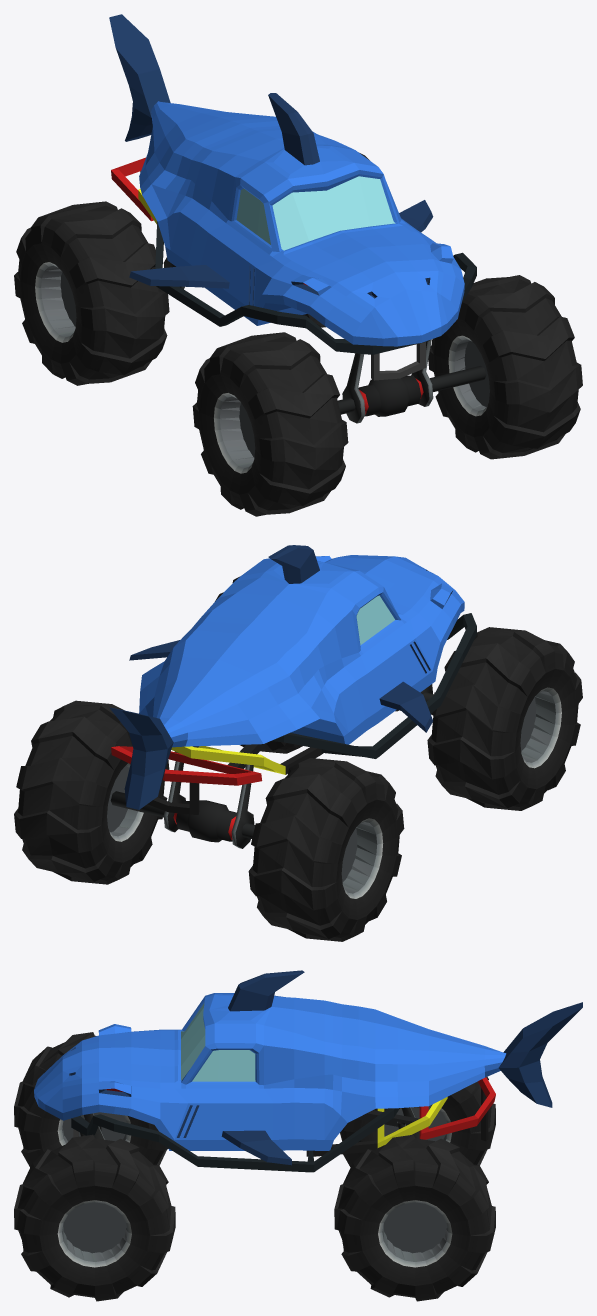
File: Shark.fbx
The picture shows the model from 3 angles, top to bottom: view 1: azimuth 30°, elevation 25°; view 2: azimuth 150°, elevation 25°; view 3: azimuth 270°, elevation 25°; orthographic projection. The views are drawn at different scales.
Visible parts, largest first — view 1: Monster_Truck_Body, Wheel_FR, Wheel_RR, Wheel_FL, Axel Front; view 2: Monster_Truck_Body, Wheel_RR, Wheel_FR, Wheel_RL, Axel Back; view 3: Monster_Truck_Body, Wheel_RL, Wheel_FL, Wheel_FR, Wheel_RR.
Part boxes in pixels (box(x1,y1,x2,y2)): Monster_Truck_Body: box(109, 14, 476, 380); Wheel_FR: box(192, 332, 348, 516); Wheel_RR: box(14, 201, 169, 385); Wheel_FL: box(428, 275, 582, 459); Axel Front: box(337, 339, 486, 423); Monster_Truck_Body: box(109, 545, 476, 814); Wheel_RR: box(248, 758, 404, 941); Wheel_FR: box(427, 627, 582, 810); Wheel_RL: box(14, 700, 169, 884); Axel Back: box(110, 761, 255, 848); Monster_Truck_Body: box(34, 970, 582, 1172); Wheel_RL: box(334, 1134, 495, 1301); Wheel_FL: box(14, 1134, 175, 1301); Wheel_FR: box(14, 1032, 168, 1167); Wheel_RR: box(340, 1076, 495, 1167).
Bounding box in the file's own units: 485 × 438 × 844.
